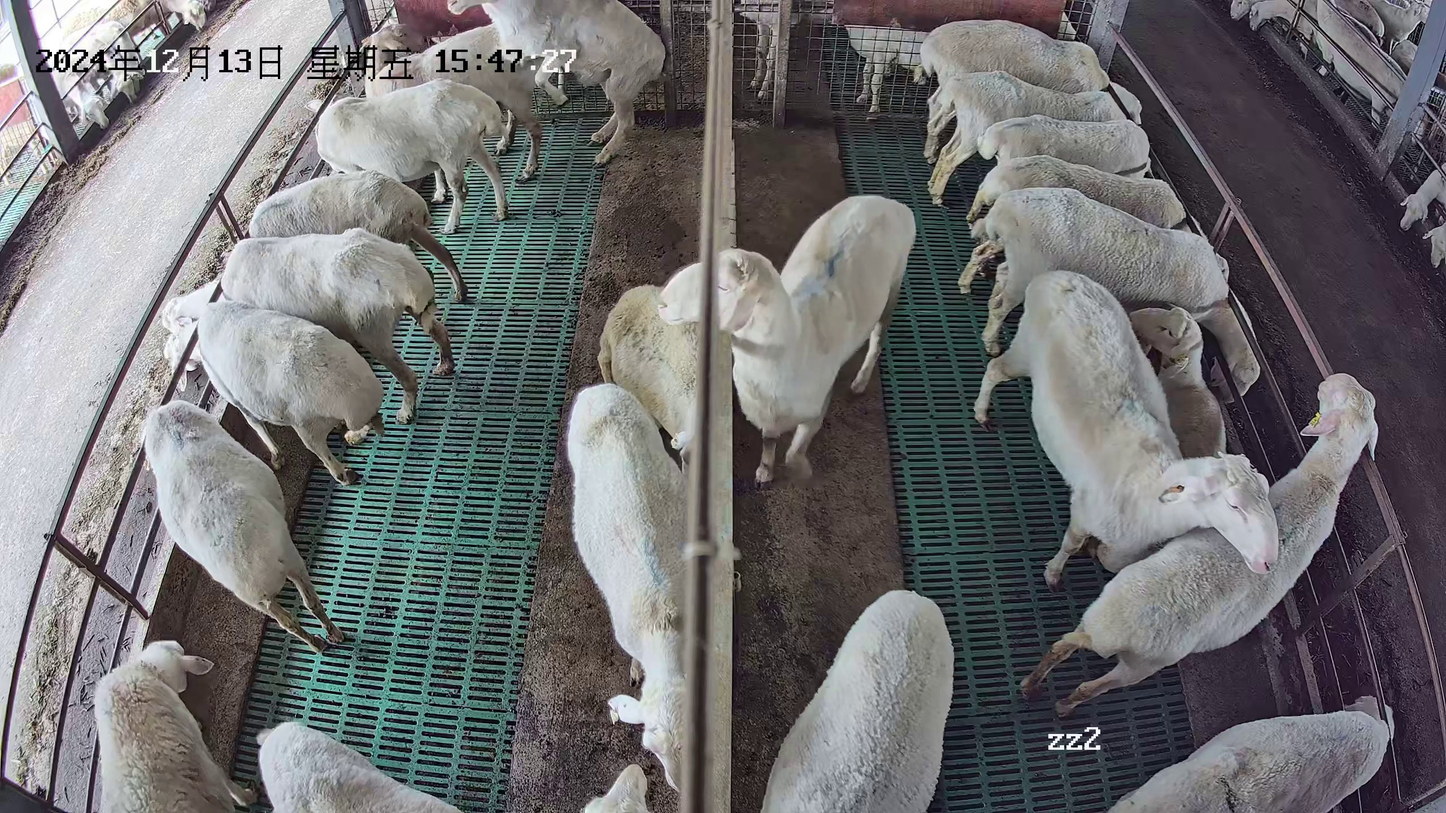Smounting: (351, 1, 669, 185)
mounted: (355, 23, 546, 181)
